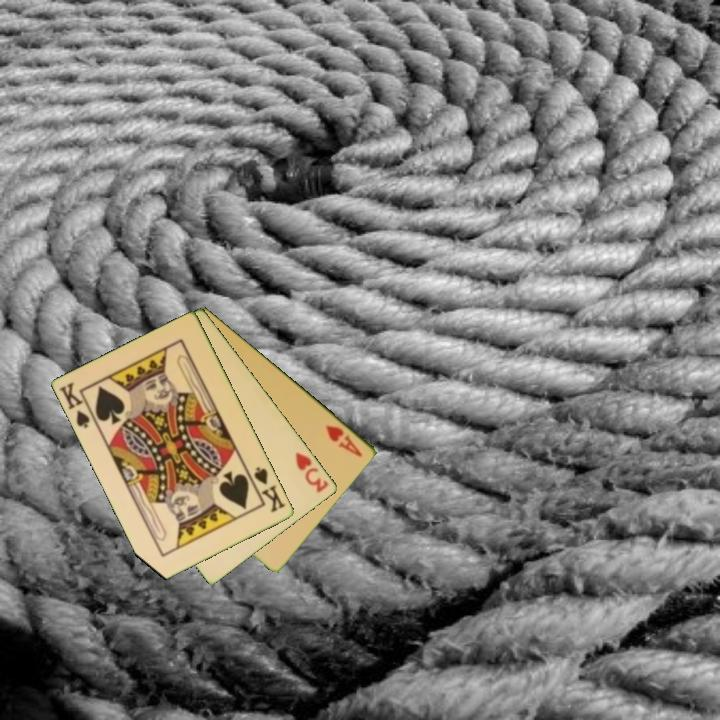3h: (292, 448, 332, 496)
Ah: (322, 421, 366, 460)
Ks: (56, 379, 100, 431), (246, 463, 289, 516)
